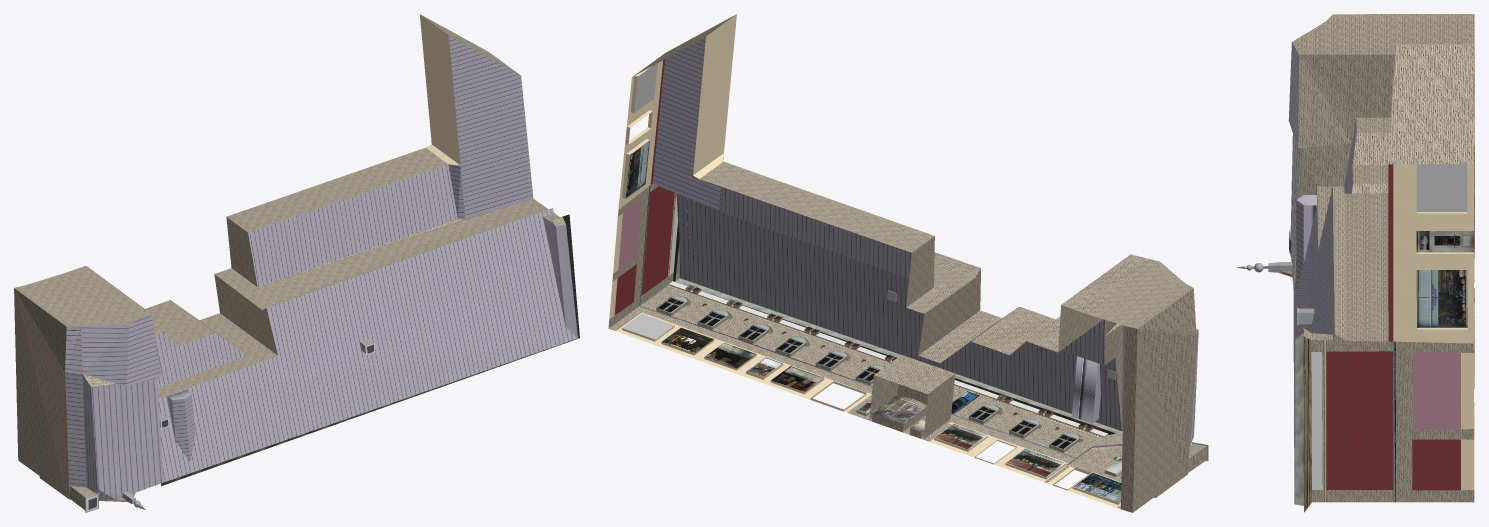
File: Viru23_1.obj
3 renders of one model, left to right at view 1: azimuth 30°, elevation 25°; view 2: azimuth 150°, elevation 25°; view 3: azimuth 270°, elevation 25°, orthographic. The views are drawn at different scales.
Parts seen in each view (by area): view 1: polySurface40; view 2: polySurface40; view 3: polySurface40.
Part boxes in pixels (box(x1,y1,x2,y2)): polySurface40: box(14, 14, 579, 512); polySurface40: box(608, 14, 1208, 512); polySurface40: box(1237, 14, 1474, 512).
Bounding box in the file's own units: 44.15 × 29.33 × 13.42.
